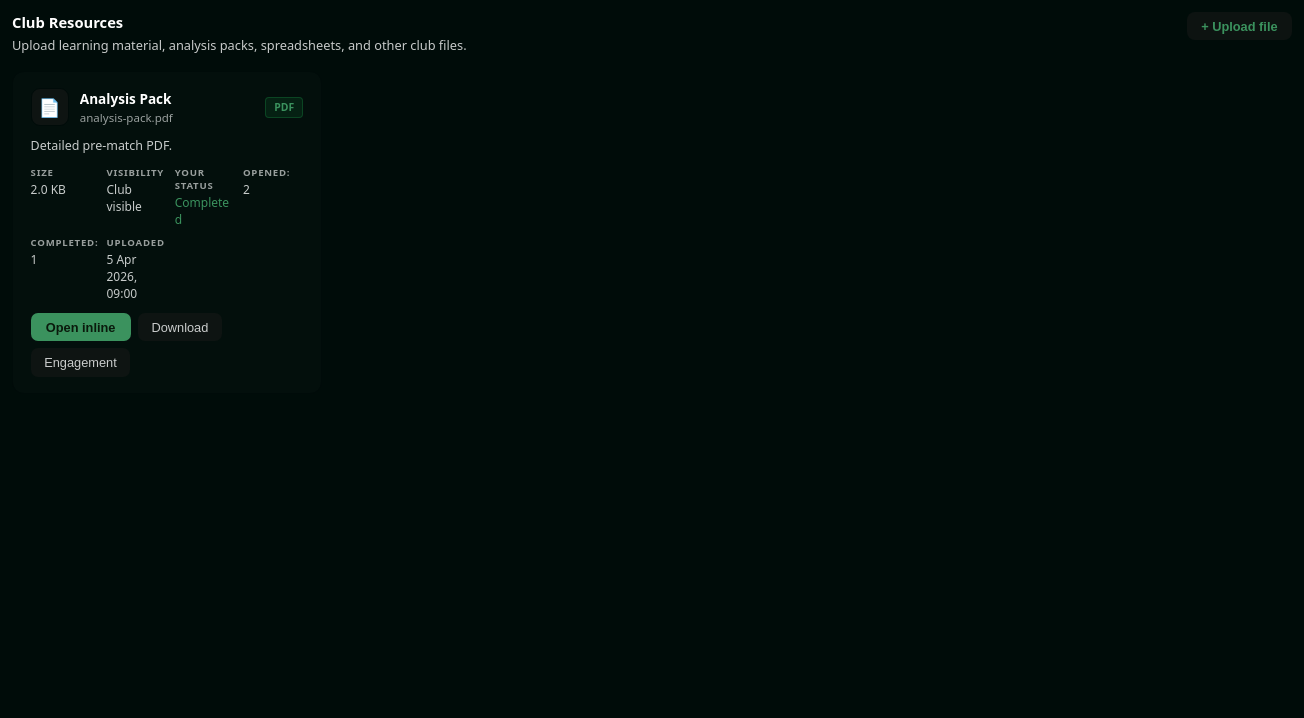
Test: ClubResourcesSection › validates upload form before calling upload api
The width and height of the screenshot is (1304, 718).
Expected: the text "Analysis Pack" is shown, [80,89,172,108]
Click the button "+ Upload file".
click(1239, 26)  # box [1187,12,1292,40]
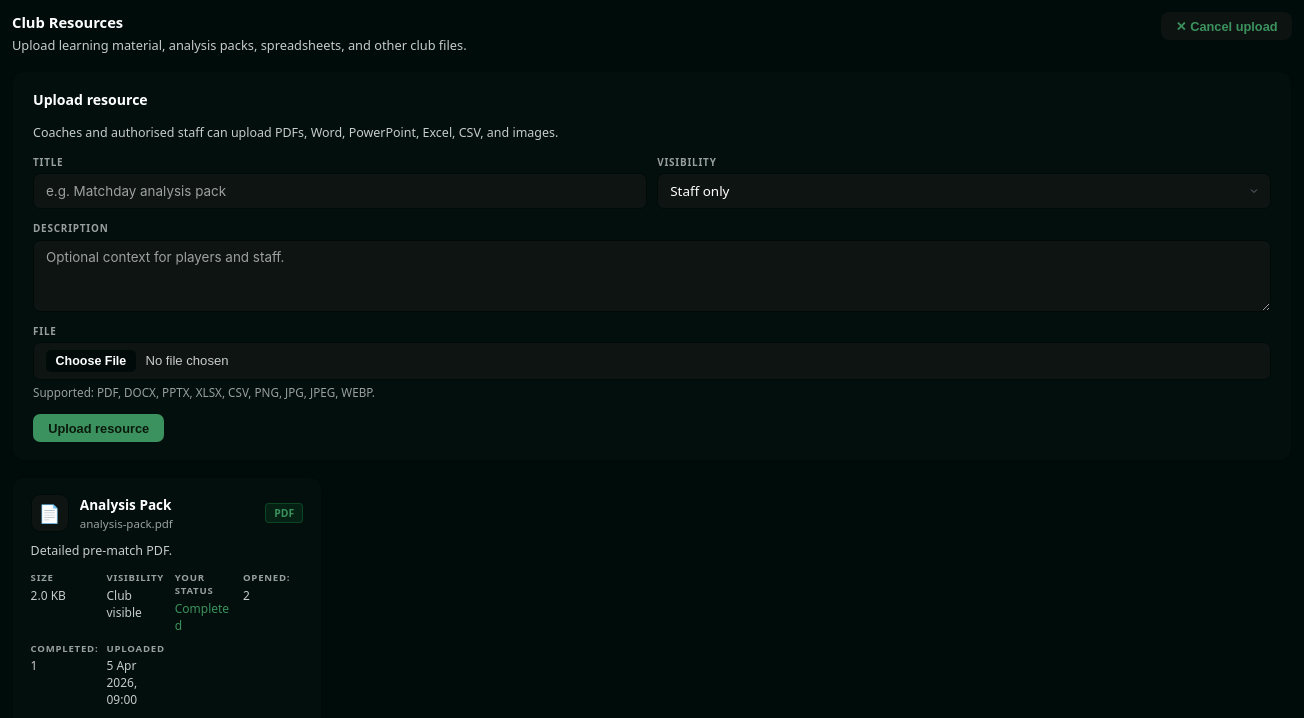
Click the button "Upload resource".
click(99, 428)  # box [33,414,164,442]
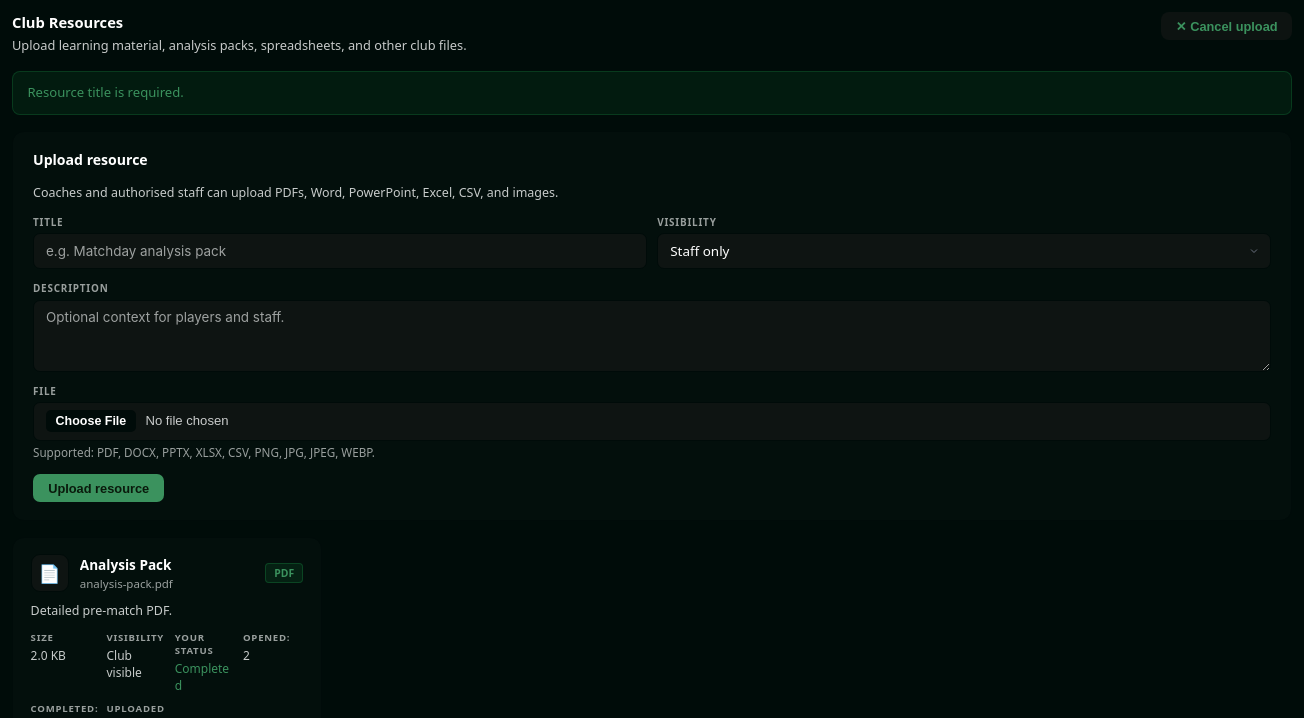
Now the text "Resource title is required." is shown, box [12,71,1292,115]
Type "New Pack" into the field labelled "Title".
click(340, 251); type("New Pack")  # box [33,233,647,269]
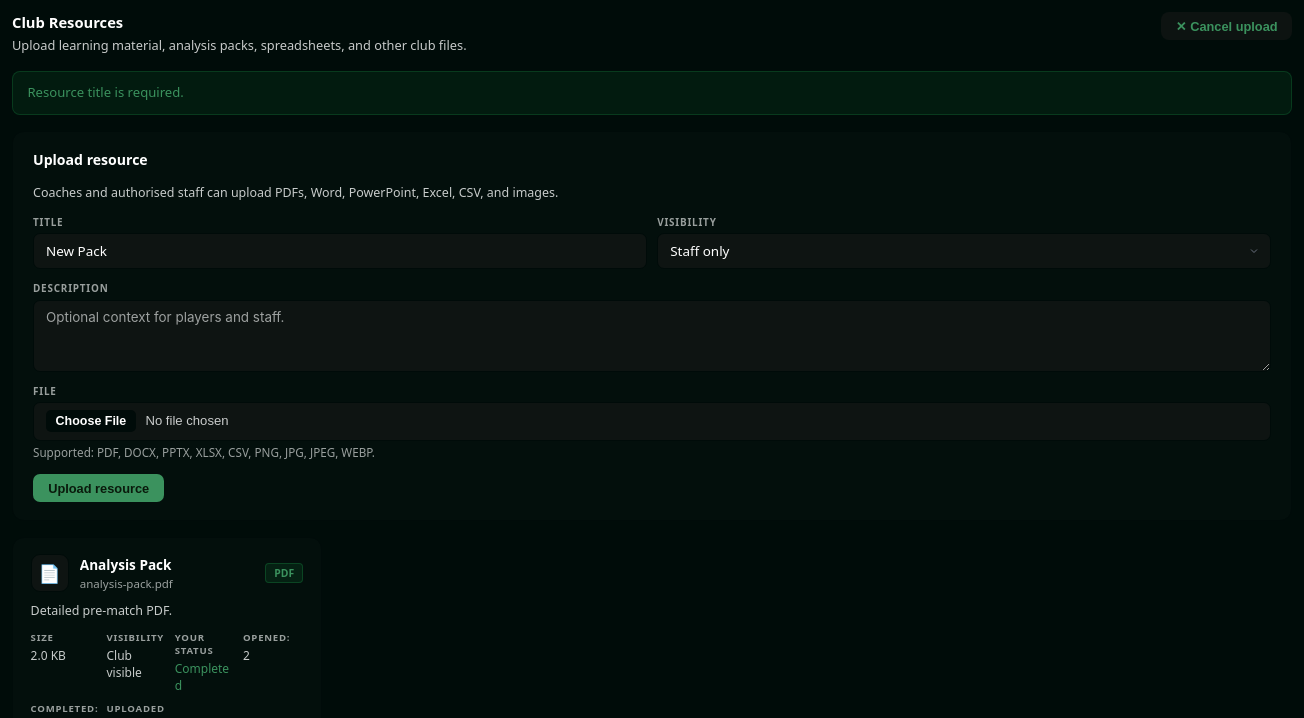
Click the button "Upload resource".
click(99, 488)  # box [33,474,164,502]
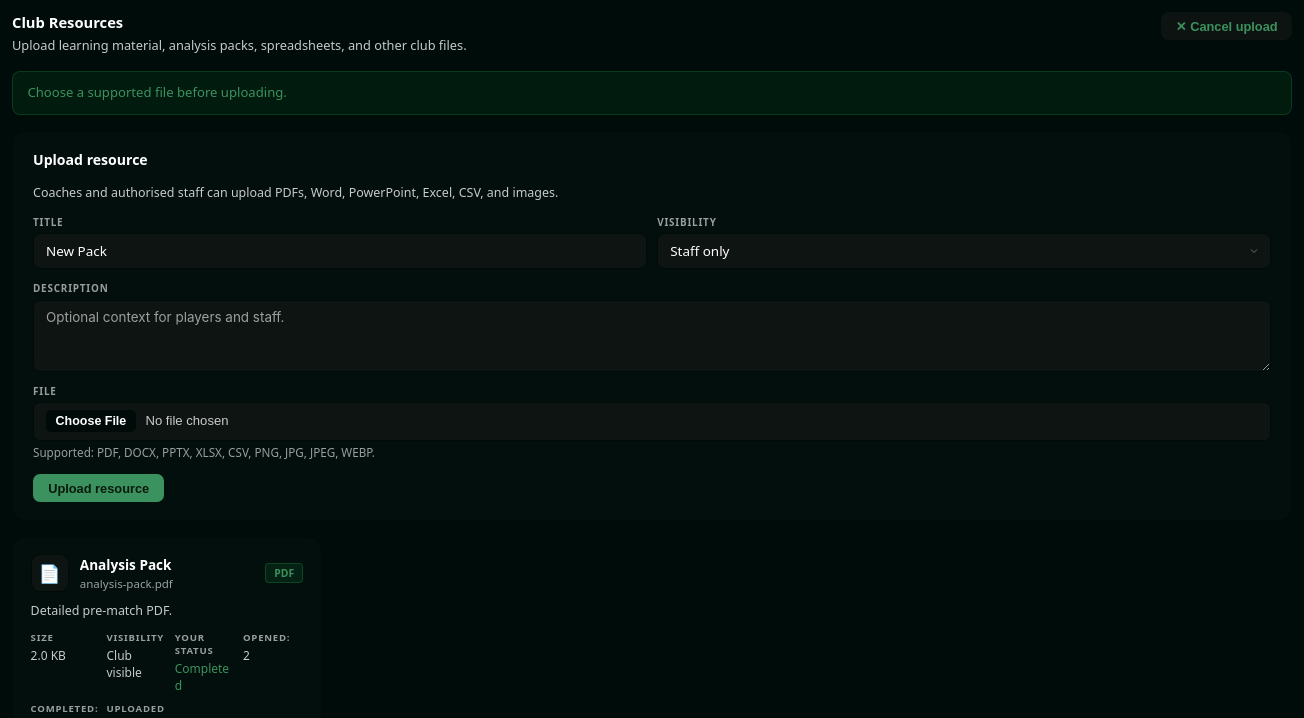
Now the text "Choose a supported file before uploading." is shown, box [12,71,1292,115]
